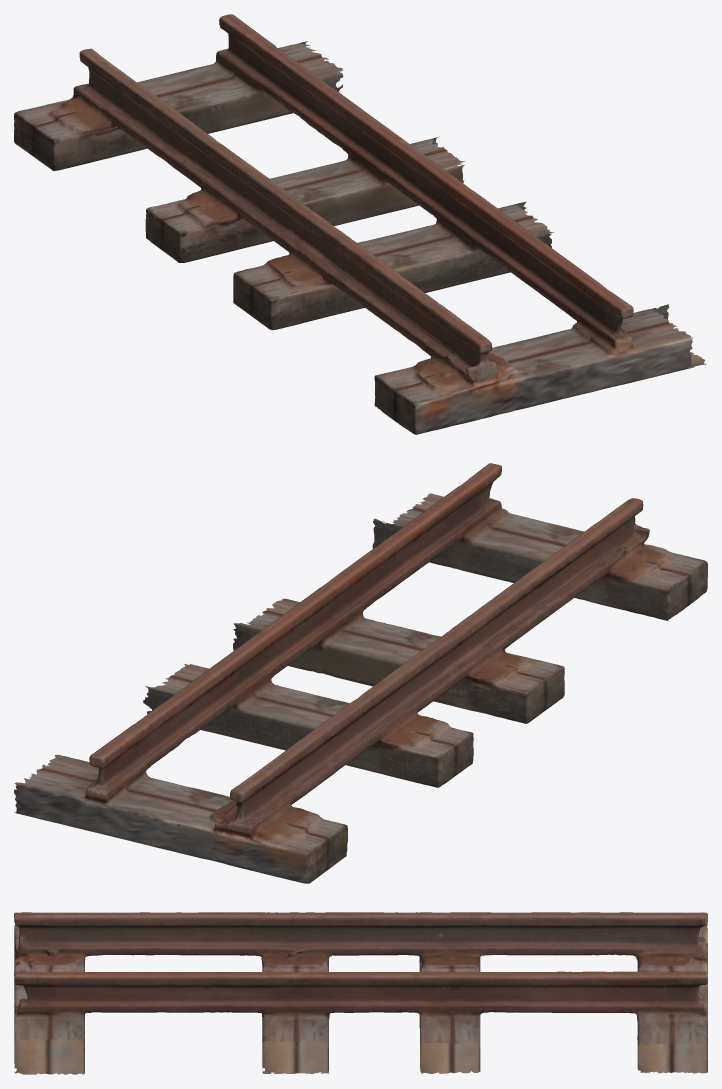
The model's file is rel_sy.glb.
3 renders of one model, top to bottom at view 1: azimuth 30°, elevation 25°; view 2: azimuth 150°, elevation 25°; view 3: azimuth 270°, elevation 25°, orthographic. The views are drawn at different scales.
Parts seen in each view (by area): view 1: Mesh_0; view 2: Mesh_0; view 3: Mesh_0.
Part boxes in pixels (x1=…): Mesh_0: x1=14, y1=14, x2=706, y2=434; Mesh_0: x1=14, y1=463, x2=707, y2=883; Mesh_0: x1=14, y1=912, x2=707, y2=1074.
Size of the model in its own units: 0.853 by 0.2108 by 2.
Materials: 1 (1 with a texture image).
